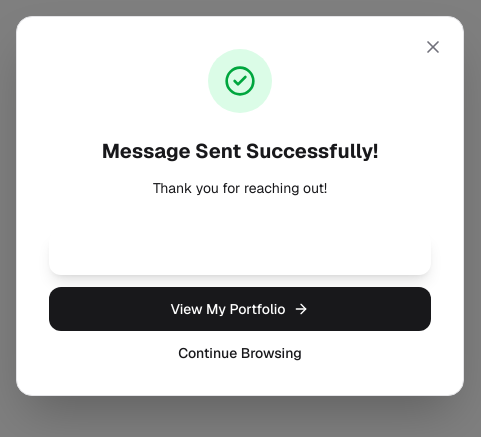
Test: SuccessModal › booking step › goes back to initial state when back is clicked
Step 1. Click the button "Book a Free Consultation" → click(240, 253), box top-left (49, 231), bottom-right (431, 275)
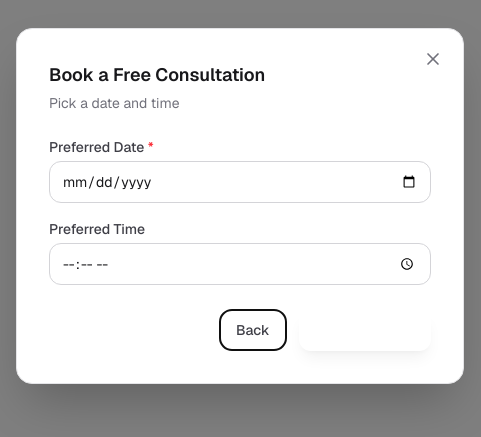
Step 2. Click the button "Back" → click(253, 330), box top-left (219, 309), bottom-right (286, 351)
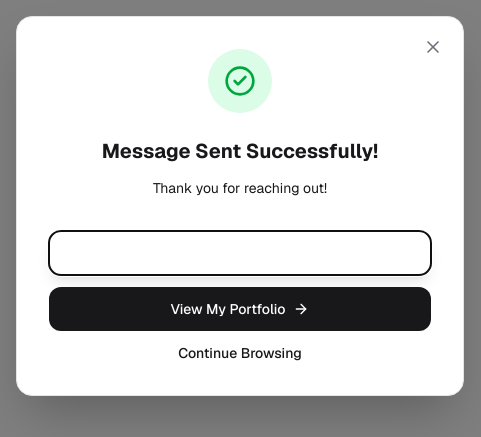
Check: the heading "Message Sent Successfully!" is shown, box top-left (102, 138), bottom-right (378, 164)
